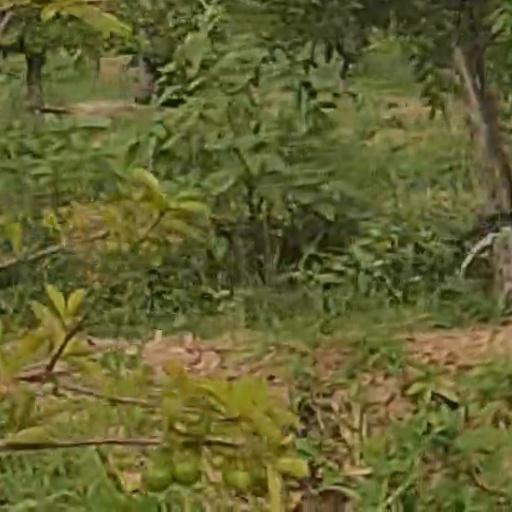acerola_verde: (138, 465, 171, 490), (176, 463, 199, 484)
